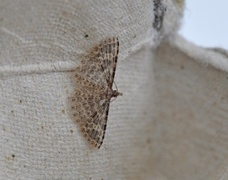Alucitidae: (61, 35, 121, 149)
moth: (62, 36, 122, 150)
